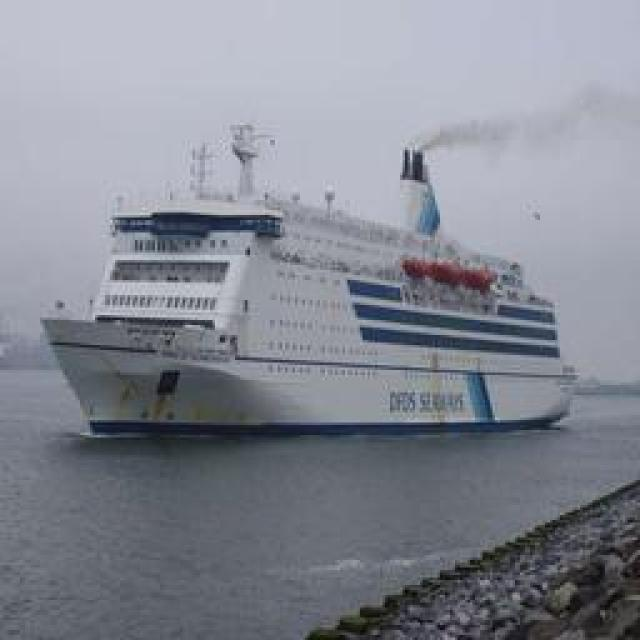CIV_Ship: (56, 127, 574, 430)
